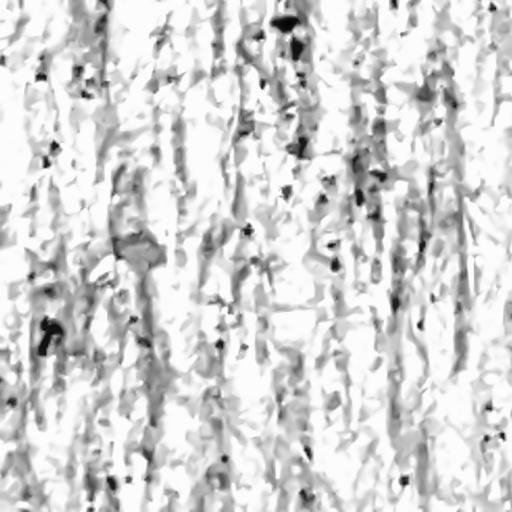egg: (37, 316, 63, 356), (317, 238, 340, 271), (40, 138, 61, 168), (270, 14, 299, 32), (290, 36, 304, 60), (81, 78, 94, 97), (297, 136, 308, 158), (354, 189, 363, 205), (318, 189, 327, 203)
